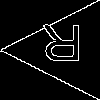R: (42, 25, 83, 70)
